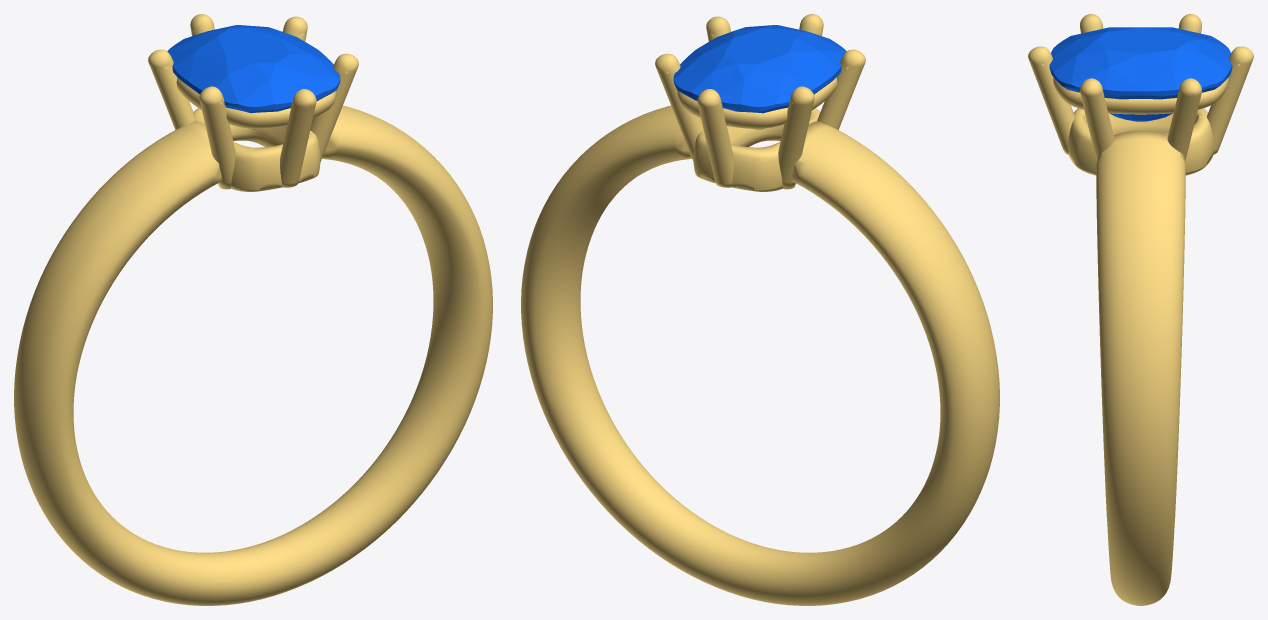
The model's file is bluesapphire-cushion-yellowgold-6prong-taperedband-nosidestones.glb.
The picture shows the model from 3 angles, left to right: view 1: azimuth 30°, elevation 25°; view 2: azimuth 150°, elevation 25°; view 3: azimuth 270°, elevation 25°; orthographic projection. The views are drawn at different scales.
Parts seen in each view (by area): view 1: metal.002, stone; view 2: metal.002, stone; view 3: metal.002, stone.
Part boxes in pixels (x1,y1,x2,y2): metal.002: (14,14,492,605); stone: (167,25,340,129); metal.002: (521,14,999,605); stone: (673,25,846,129); metal.002: (1028,14,1253,605); stone: (1049,27,1232,121).
Size of the model in its own units: 20.49 by 23.24 by 8.8.
